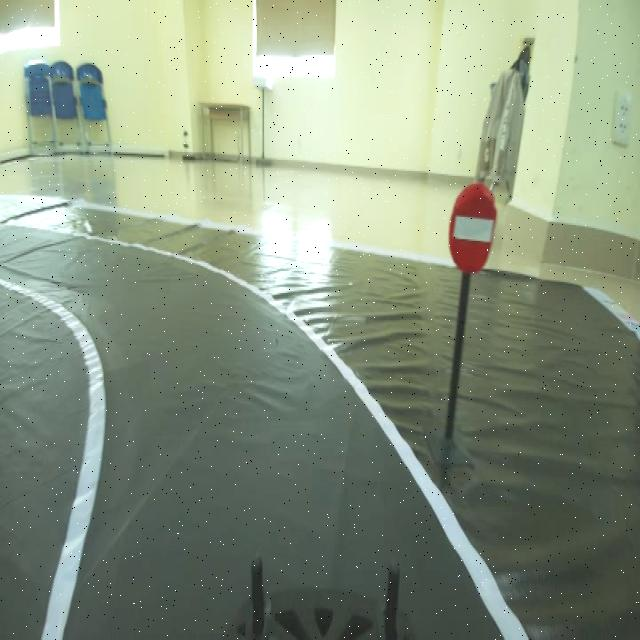no_entry: (444, 176, 499, 287)
